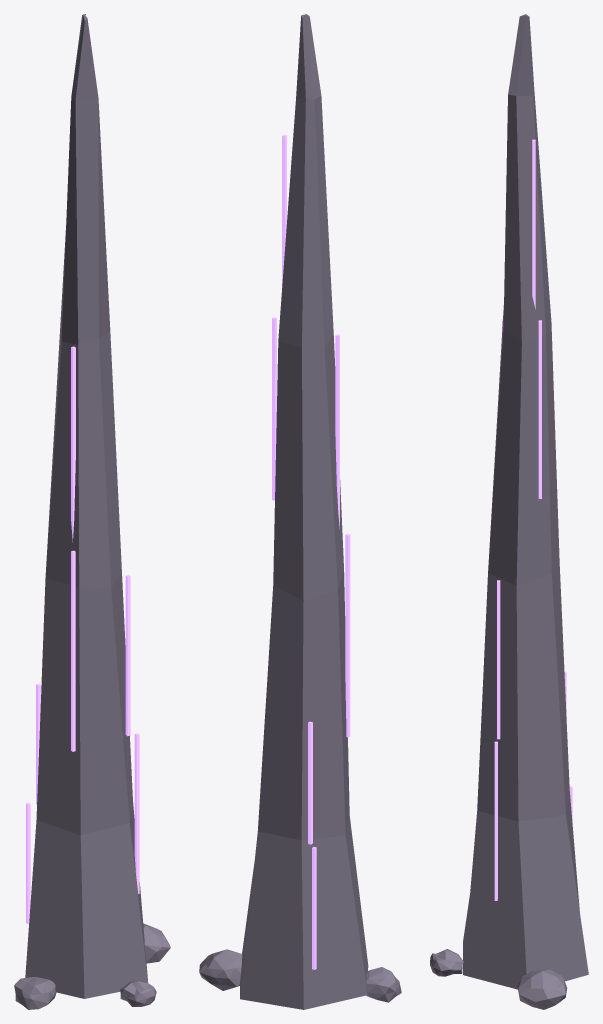
The model's file is spire_anchor.glb.
3 renders of one model, left to right at view 1: azimuth 30°, elevation 25°; view 2: azimuth 150°, elevation 25°; view 3: azimuth 270°, elevation 25°, orthographic. The views are drawn at different scales.
Parts seen in each view (by area): view 1: Spire, CrystalVeins, BaseRocks; view 2: Spire, CrystalVeins, BaseRocks; view 3: Spire, CrystalVeins, BaseRocks.
Boxes of the visible parts, x1,y1,x2,y2 form: Spire: (25,14,148,998); CrystalVeins: (26,346,139,923); BaseRocks: (14,923,170,1009); Spire: (240,14,368,1009); CrystalVeins: (272,134,350,969); BaseRocks: (199,949,401,1002); Spire: (463,14,588,989); CrystalVeins: (494,139,572,900); BaseRocks: (430,949,567,1009).
Size of the model in its own units: 22.39 by 122 by 18.26.
